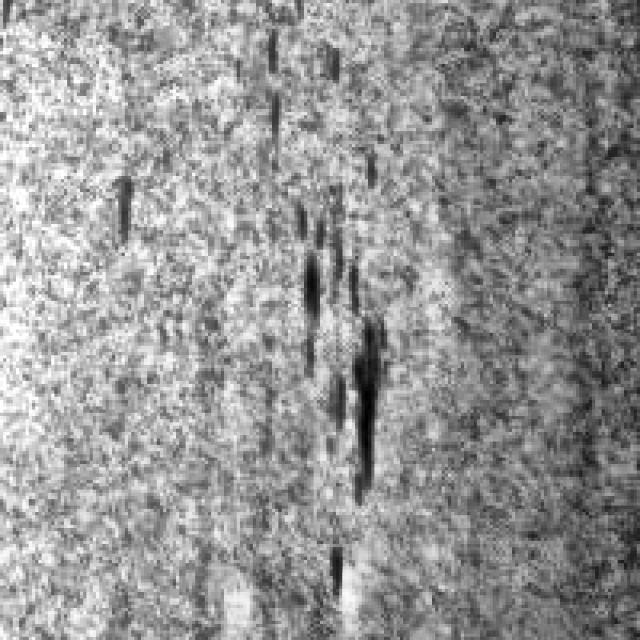Patches: (278, 176, 368, 371), (321, 308, 394, 502)
